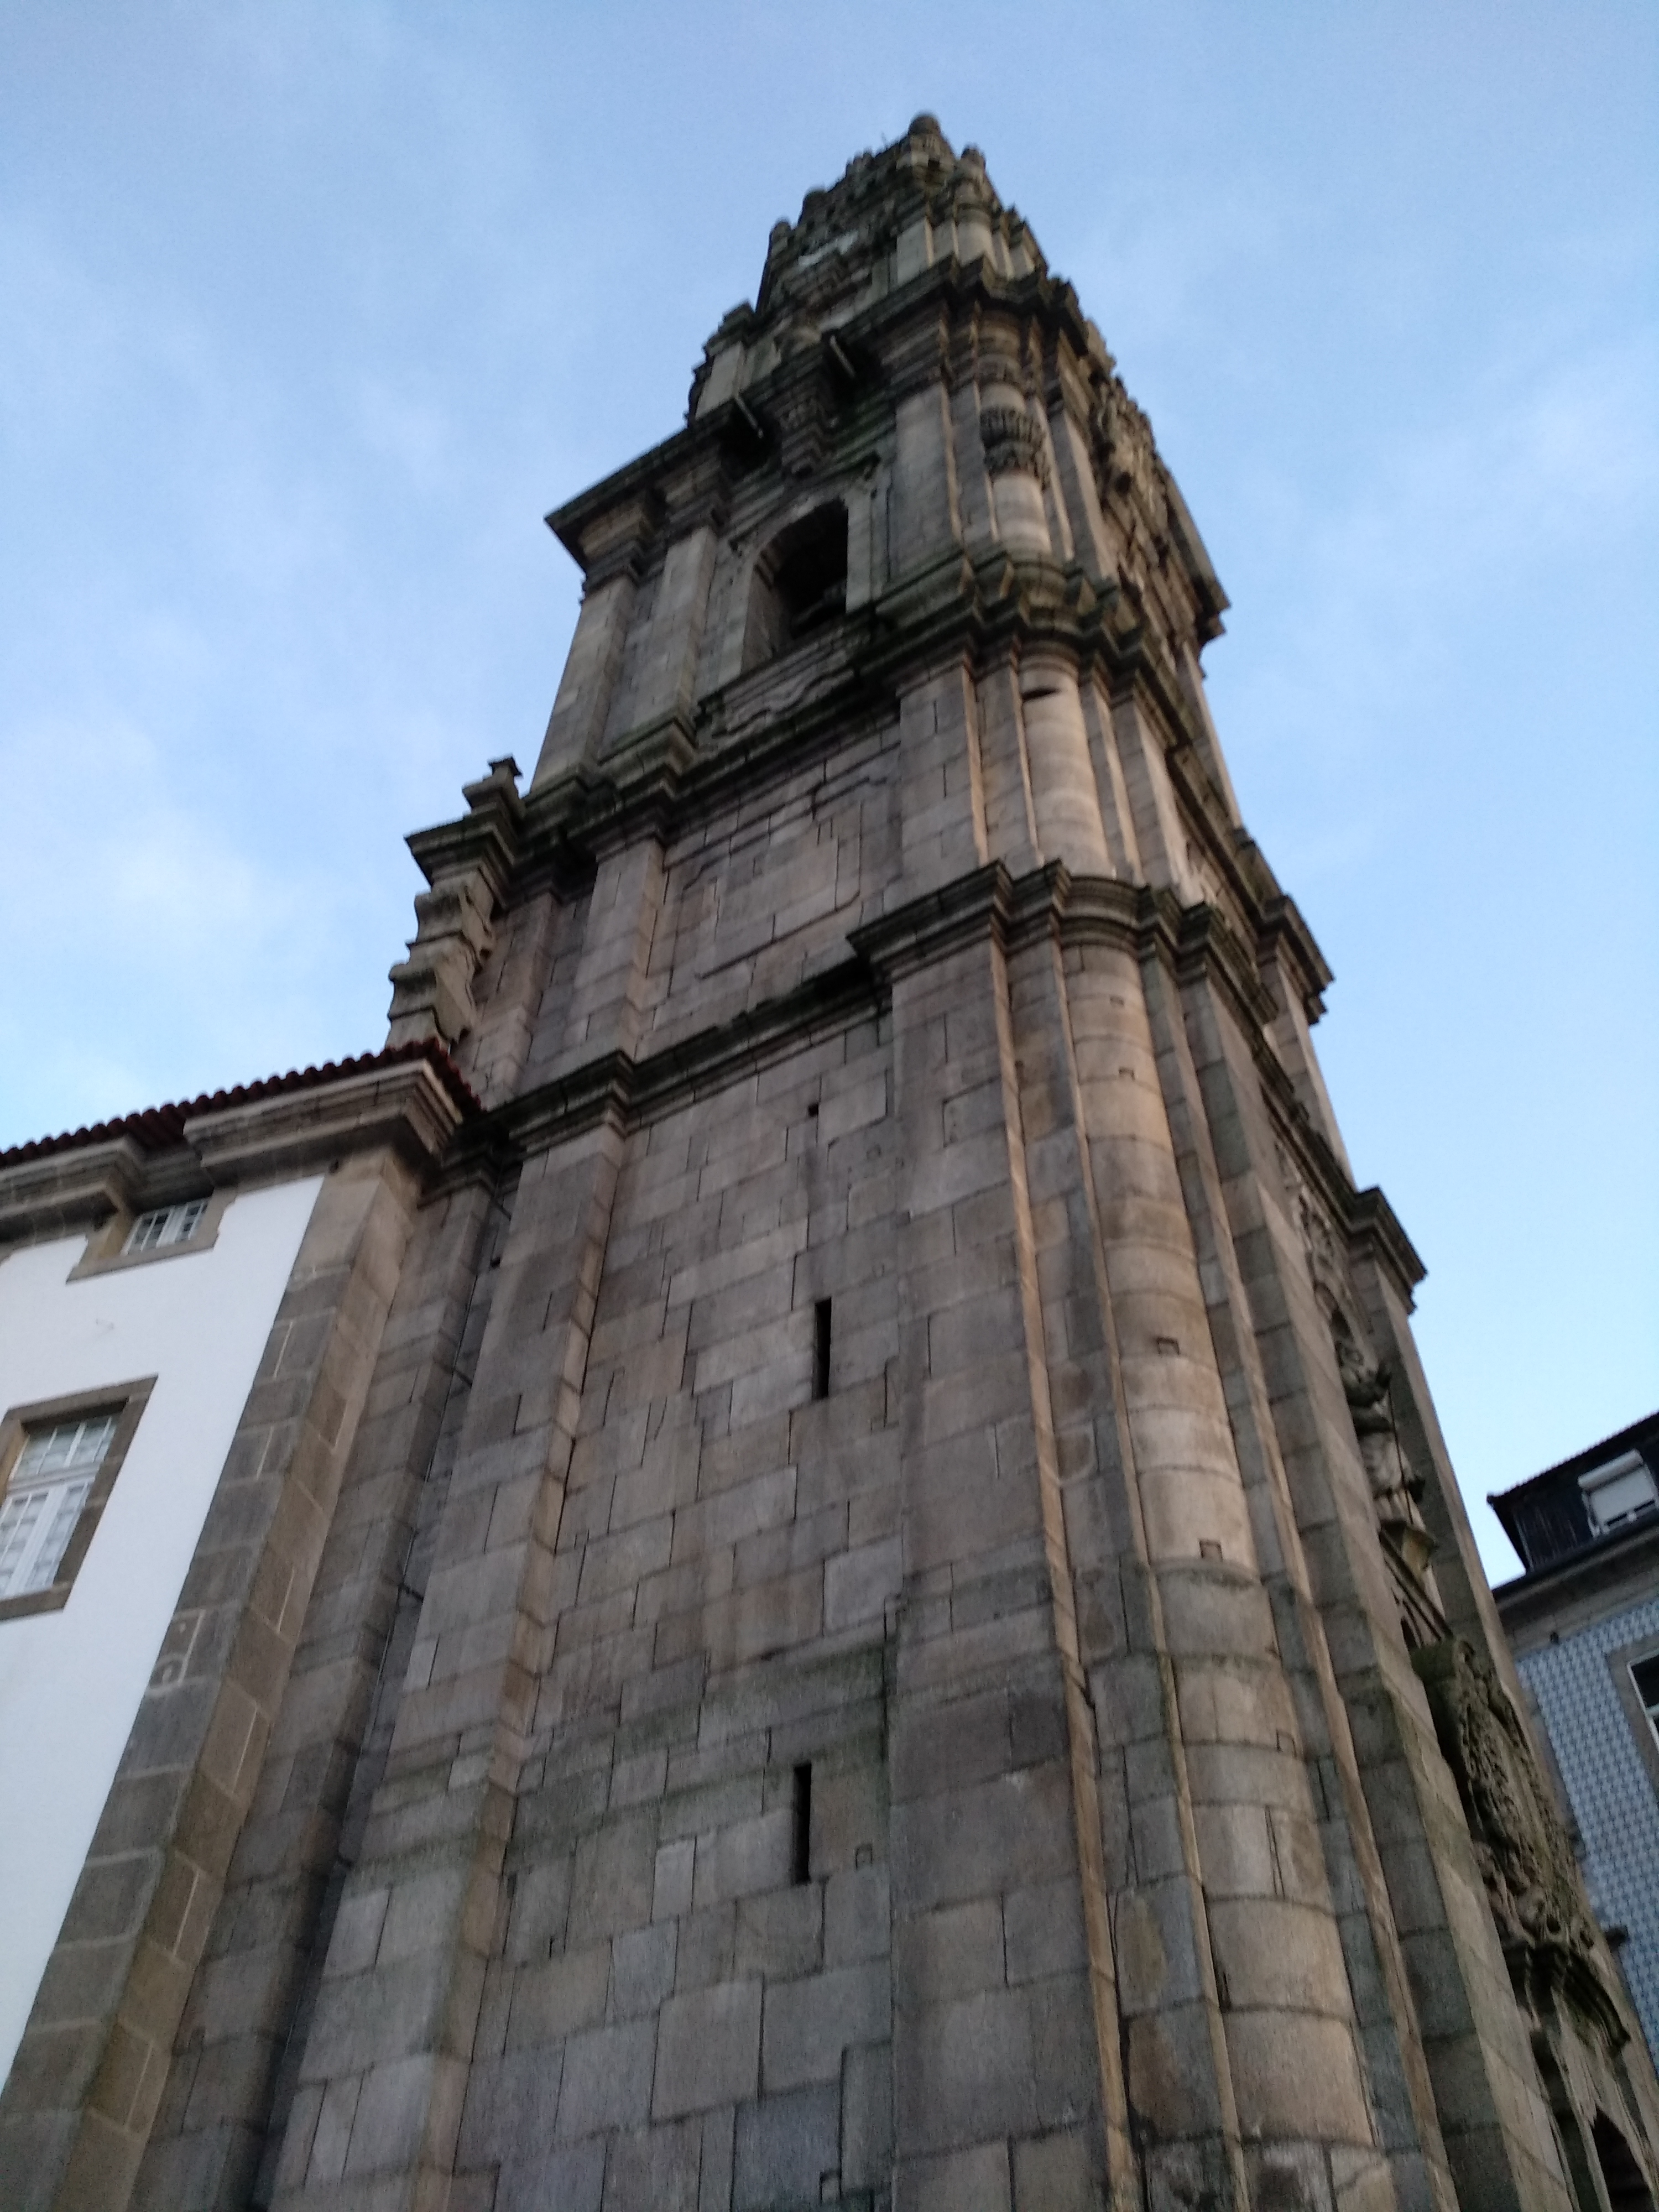clerigos: (376, 84, 1608, 2146)
